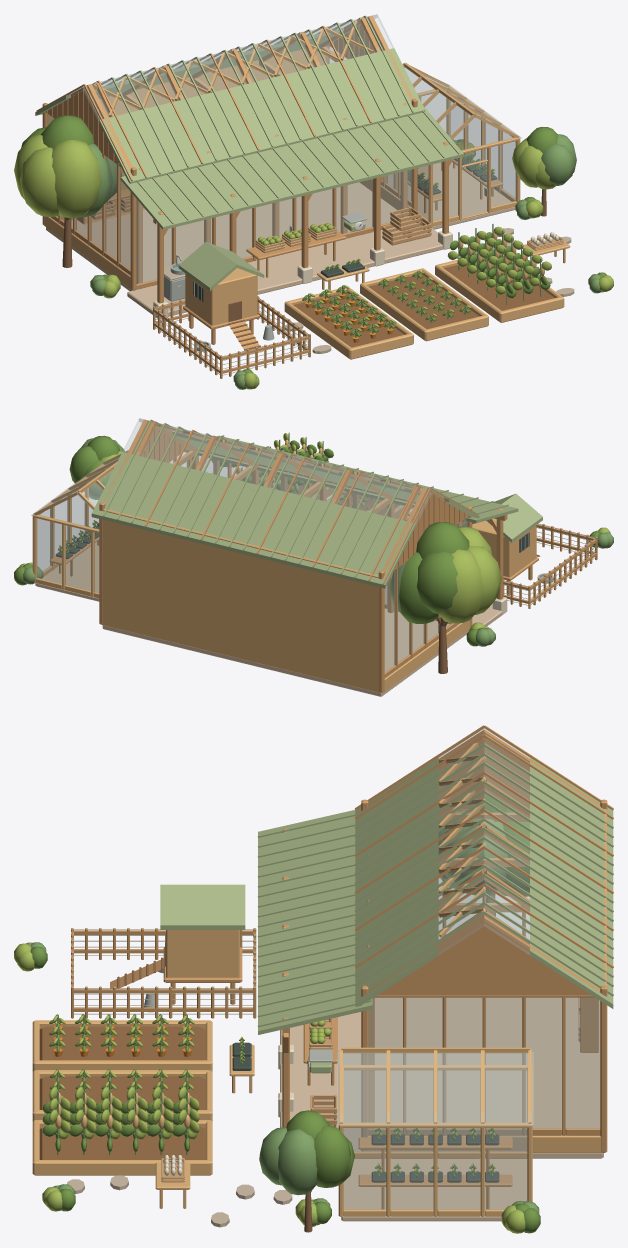
The picture shows the model from 3 angles, top to bottom: view 1: azimuth 30°, elevation 25°; view 2: azimuth 150°, elevation 25°; view 3: azimuth 270°, elevation 25°; orthographic projection. The views are drawn at different scales.
Parts seen in each view (by area): view 1: R 谷仓绿色板与采光带, R 分拣廊单坡雨棚, L 乔木 · 枝干与树冠, A 谷仓工作面落地窗, S 谷仓内楼板, L 叶植, R 立边与采光肋, L 菜畦木边, A 温室端面, L 菜畦土, S 分拣廊工作地坪, A 山墙通透木格窗 (+27 smaller); view 2: A 后木板墙, R 谷仓绿色板与采光带, L 乔木 · 枝干与树冠, R 立边与采光肋, A 温室端面, R 木柱与屋架, S 谷仓内楼板, A 山墙通透木格窗, A 木板山墙三角, A 温室侧玻璃, L 围栏, R 分拣廊单坡雨棚 (+16 smaller); view 3: R 谷仓绿色板与采光带, A 温室侧玻璃, S 谷仓内楼板, A 山墙通透木格窗, R 立边与采光肋, R 分拣廊单坡雨棚, R 温室玻璃屋顶, A 木板山墙三角, L 菜畦土, L 叶植, L 乔木 · 枝干与树冠, L 菜畦木边 (+22 smaller).
Part boxes in pixels (left/top/right/bottom): R 谷仓绿色板与采光带: left=35, top=14, right=424, bottom=183; R 分拣廊单坡雨棚: left=120, top=105, right=463, bottom=229; L 乔木 · 枝干与树冠: left=14, top=115, right=576, bottom=267; A 谷仓工作面落地窗: left=134, top=169, right=412, bottom=290; S 谷仓内楼板: left=46, top=182, right=400, bottom=291; L 叶植: left=302, top=139, right=551, bottom=337; R 立边与采光肋: left=36, top=15, right=413, bottom=181; L 菜畦木边: left=284, top=254, right=564, bottom=359; A 温室端面: left=417, top=86, right=519, bottom=227; L 菜畦土: left=294, top=258, right=554, bottom=347; S 分拣廊工作地坪: left=127, top=221, right=442, bottom=317; A 山墙通透木格窗: left=46, top=44, right=411, bottom=275; A 后木板墙: left=102, top=509, right=379, bottom=692; R 谷仓绿色板与采光带: left=91, top=418, right=479, bottom=588; L 乔木 · 枝干与树冠: left=69, top=435, right=501, bottom=673; R 立边与采光肋: left=103, top=419, right=478, bottom=584; A 温室端面: left=33, top=464, right=111, bottom=598; R 木柱与屋架: left=136, top=421, right=462, bottom=612; S 谷仓内楼板: left=102, top=608, right=468, bottom=696; A 山墙通透木格窗: left=167, top=448, right=468, bottom=677; A 木板山墙三角: left=103, top=419, right=467, bottom=574; A 温室侧玻璃: left=32, top=464, right=105, bottom=582; L 围栏: left=503, top=523, right=597, bottom=608; R 分拣廊单坡雨棚: left=184, top=435, right=518, bottom=523; R 谷仓绿色板与采光带: left=355, top=728, right=613, bottom=1008; A 温室侧玻璃: left=339, top=1065, right=531, bottom=1216; S 谷仓内楼板: left=375, top=997, right=603, bottom=1158; A 山墙通透木格窗: left=368, top=809, right=600, bottom=1135; R 立边与采光肋: left=354, top=725, right=613, bottom=996; R 分拣廊单坡雨棚: left=258, top=810, right=372, bottom=1034; R 温室玻璃屋顶: left=337, top=1050, right=533, bottom=1126; A 木板山墙三角: left=368, top=729, right=600, bottom=994; L 菜畦土: left=39, top=1026, right=205, bottom=1159; L 叶植: left=42, top=1014, right=495, bottom=1177; L 乔木 · 枝干与树冠: left=259, top=796, right=529, bottom=1232; L 菜畦木边: left=32, top=1020, right=212, bottom=1175.
Size of the model in its own units: 23.33 by 8.24 by 18.37.
